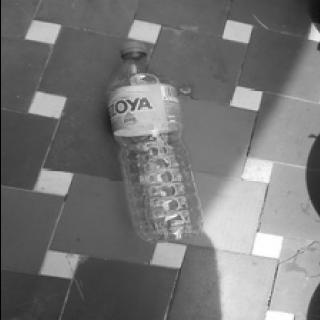plastic_bottles: (102, 38, 204, 246)
